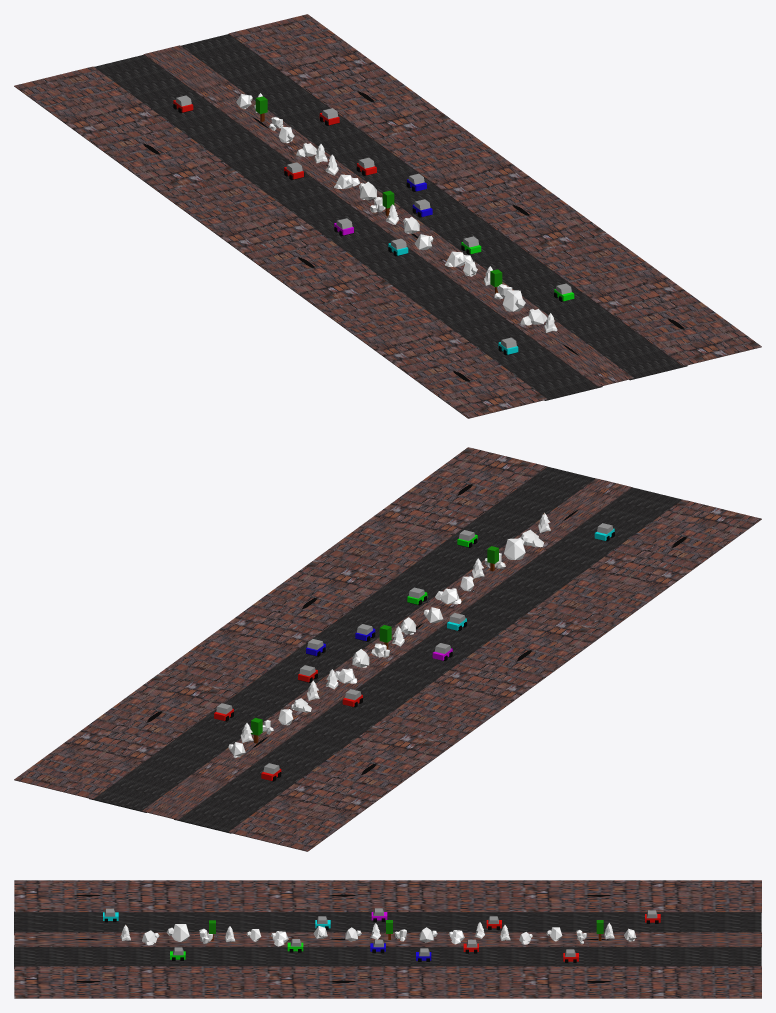
3 renders of one model, top to bottom at view 1: azimuth 30°, elevation 25°; view 2: azimuth 150°, elevation 25°; view 3: azimuth 270°, elevation 25°, orthographic. The views are drawn at different scales.
Parts seen in each view (by area): view 1: Cube.002, Cube, Cube.009, Cube.008, Cube.001; view 2: Cube.002, Cube, Cube.009, Cube.008, Cube.001; view 3: Cube, Cube.002, Cube.008, Cube.009, Cube.001, Icosphere.060.
Part boxes in pixels (left/top/right/bottom): Cube.002: left=14, top=66, right=546, bottom=418; Cube: left=228, top=14, right=761, bottom=366; Cube.009: left=94, top=54, right=602, bottom=400; Cube.008: left=180, top=34, right=687, bottom=380; Cube.001: left=143, top=45, right=633, bottom=386; Cube.002: left=228, top=499, right=761, bottom=851; Cube: left=14, top=447, right=547, bottom=799; Cube.009: left=174, top=487, right=682, bottom=833; Cube.008: left=89, top=466, right=595, bottom=812; Cube.001: left=142, top=478, right=632, bottom=819; Cube: left=14, top=966, right=761, bottom=998; Cube.002: left=14, top=880, right=761, bottom=912; Cube.008: left=14, top=945, right=761, bottom=968; Cube.009: left=14, top=911, right=761, bottom=934; Cube.001: left=14, top=932, right=761, bottom=946; Icosphere.060: left=171, top=924, right=189, bottom=941.
Bounding box in the file's own units: 58.81 × 6.35 × 158.
Materials: 17 (2 with a texture image).
